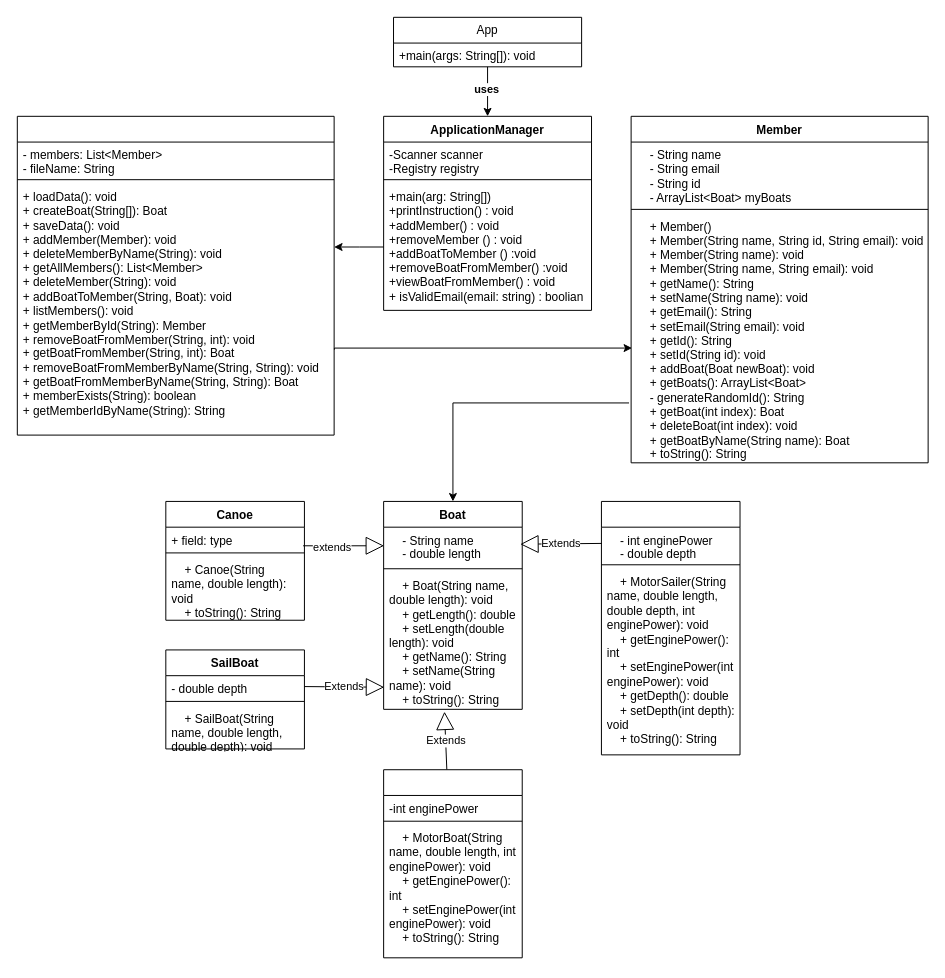
The diagram is 945 pixels wide and 978 high, and some of its shapes have lost their labels. The shapes that lost their labels are listed below. From the top down, each one's box as (x1, y1, x2, y2) in pixels, then its label:
(16, 115, 334, 435): Registry
(600, 500, 740, 755): MoterSail
(383, 769, 522, 958): MoterBoat
